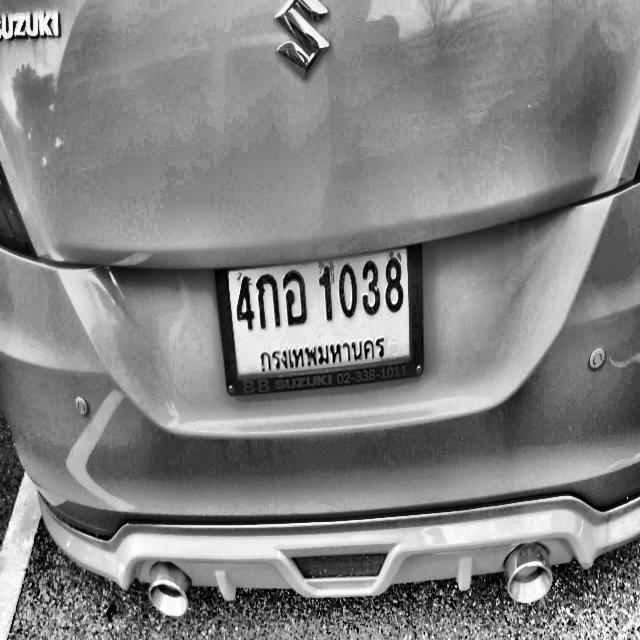license-plate: (210, 233, 427, 403)
